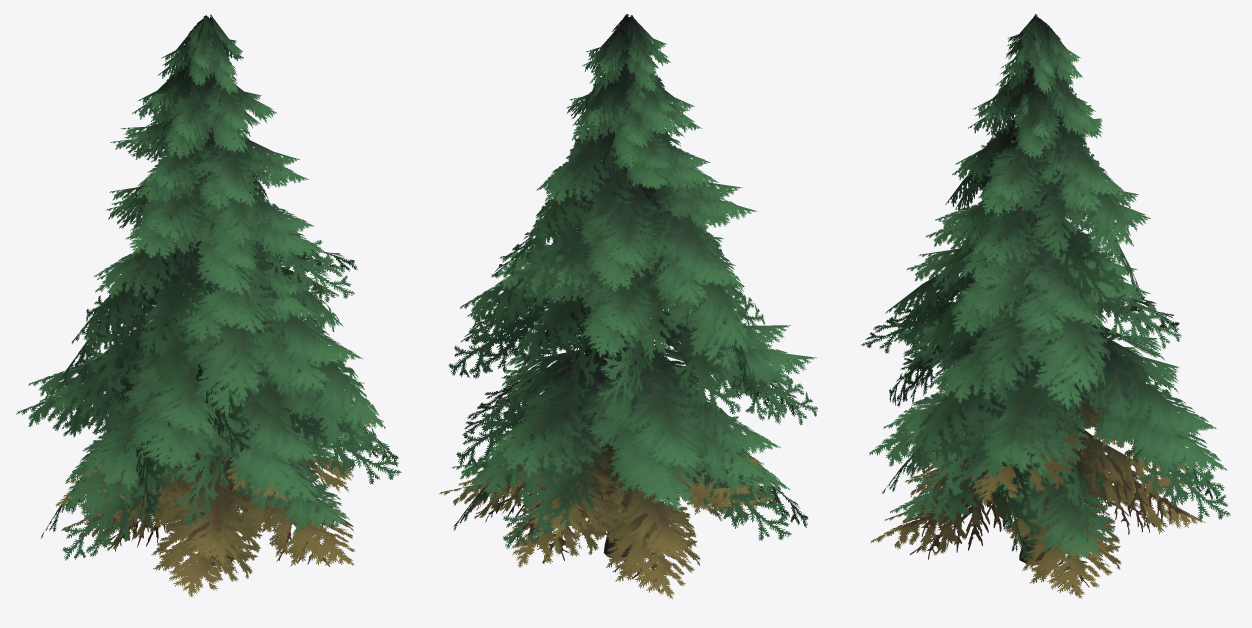
Rendered from Fir_Bl+Ñ.M.C.Z1.fbx.
The picture shows the model from 3 angles, left to right: view 1: azimuth 30°, elevation 25°; view 2: azimuth 150°, elevation 25°; view 3: azimuth 270°, elevation 25°; orthographic projection.
Visible parts, largest first — view 1: Fir_Blå_M_C_Z1; view 2: Fir_Blå_M_C_Z1; view 3: Fir_Blå_M_C_Z1.
Boxes of the visible parts, left/top/right/bottom form: Fir_Blå_M_C_Z1: left=16, top=14, right=401, bottom=597; Fir_Blå_M_C_Z1: left=439, top=14, right=817, bottom=598; Fir_Blå_M_C_Z1: left=861, top=14, right=1230, bottom=598.
Bounding box in the file's own units: 626 × 945 × 602.
